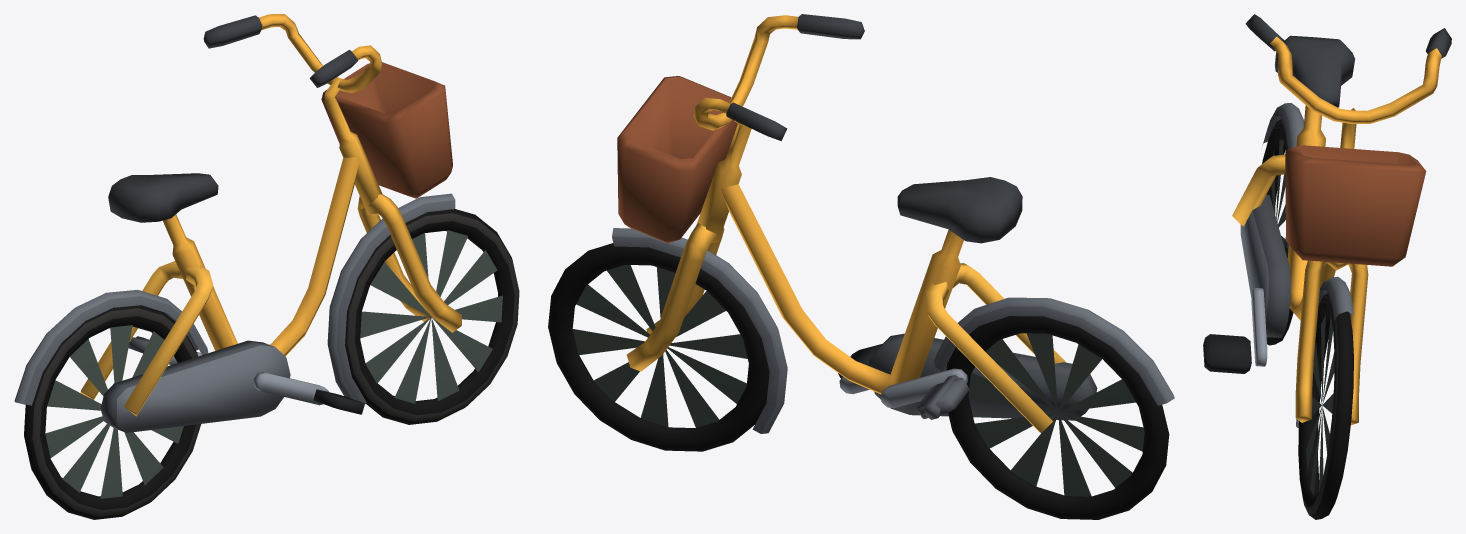
Rendered from sport_bicycle001.glb.
3 views of the same model, side by side, from view 1: azimuth 30°, elevation 25°; view 2: azimuth 150°, elevation 25°; view 3: azimuth 270°, elevation 25° (orthographic). The views are drawn at different scales.
Visible parts, largest first — view 1: Tan_bicycle_01; view 2: Tan_bicycle_01; view 3: Tan_bicycle_01.
Part boxes in pixels (x1,y1,x2,y2): Tan_bicycle_01: [14, 14, 519, 519]; Tan_bicycle_01: [548, 14, 1174, 519]; Tan_bicycle_01: [1203, 14, 1451, 519].
Bounding box in the file's own units: 8.07 × 5.89 × 3.13.
Materials: 1 (1 with a texture image).
